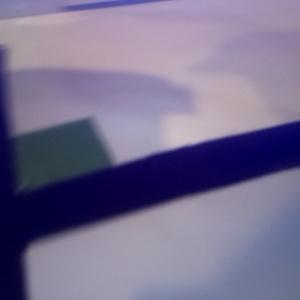top_right: (1, 118, 112, 217)
